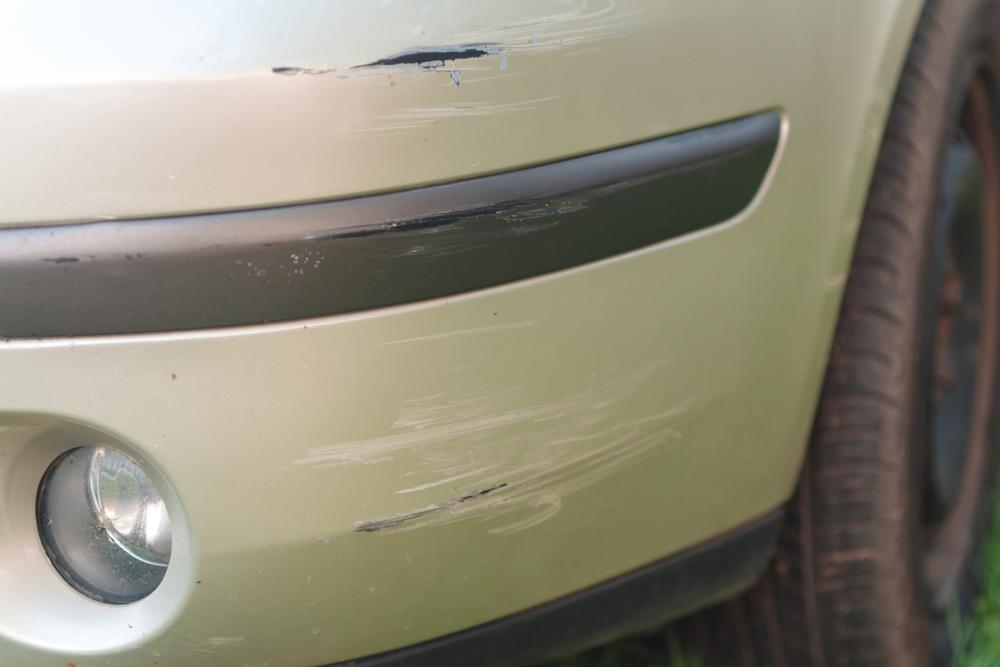scratch: (300, 300, 737, 538), (271, 0, 700, 126), (295, 162, 676, 258)
